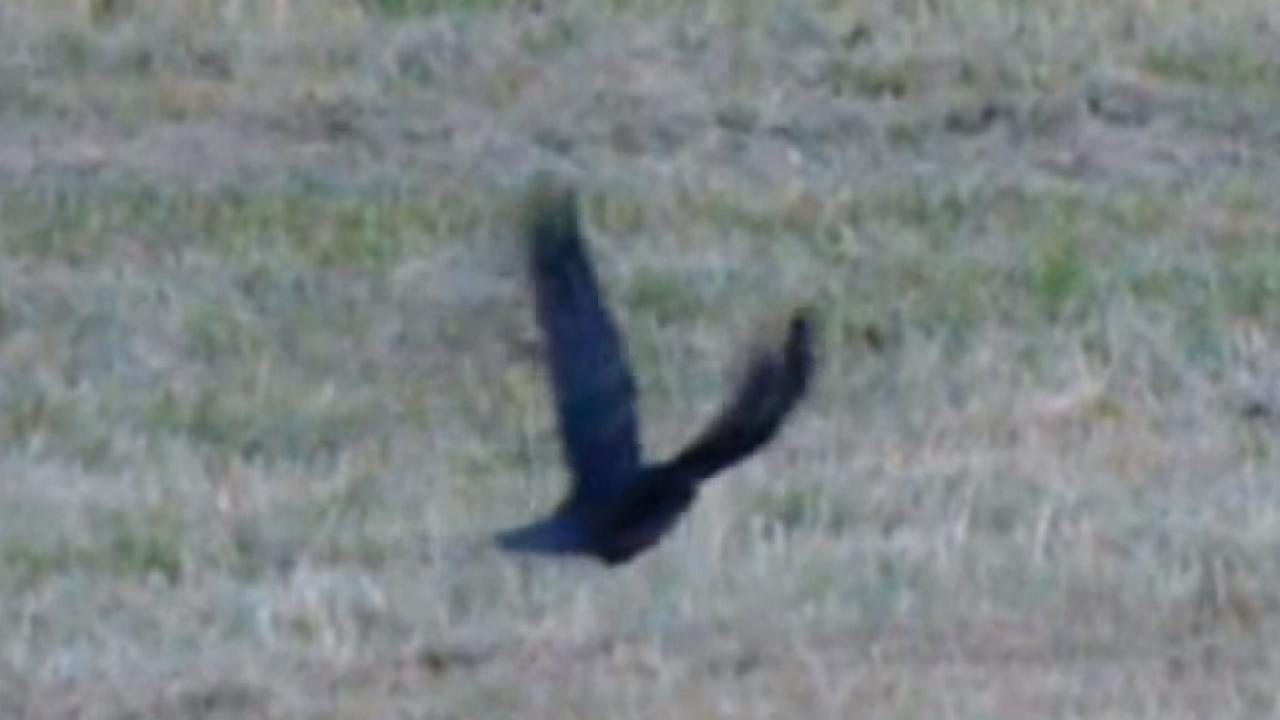Bird: (481, 153, 836, 587)
